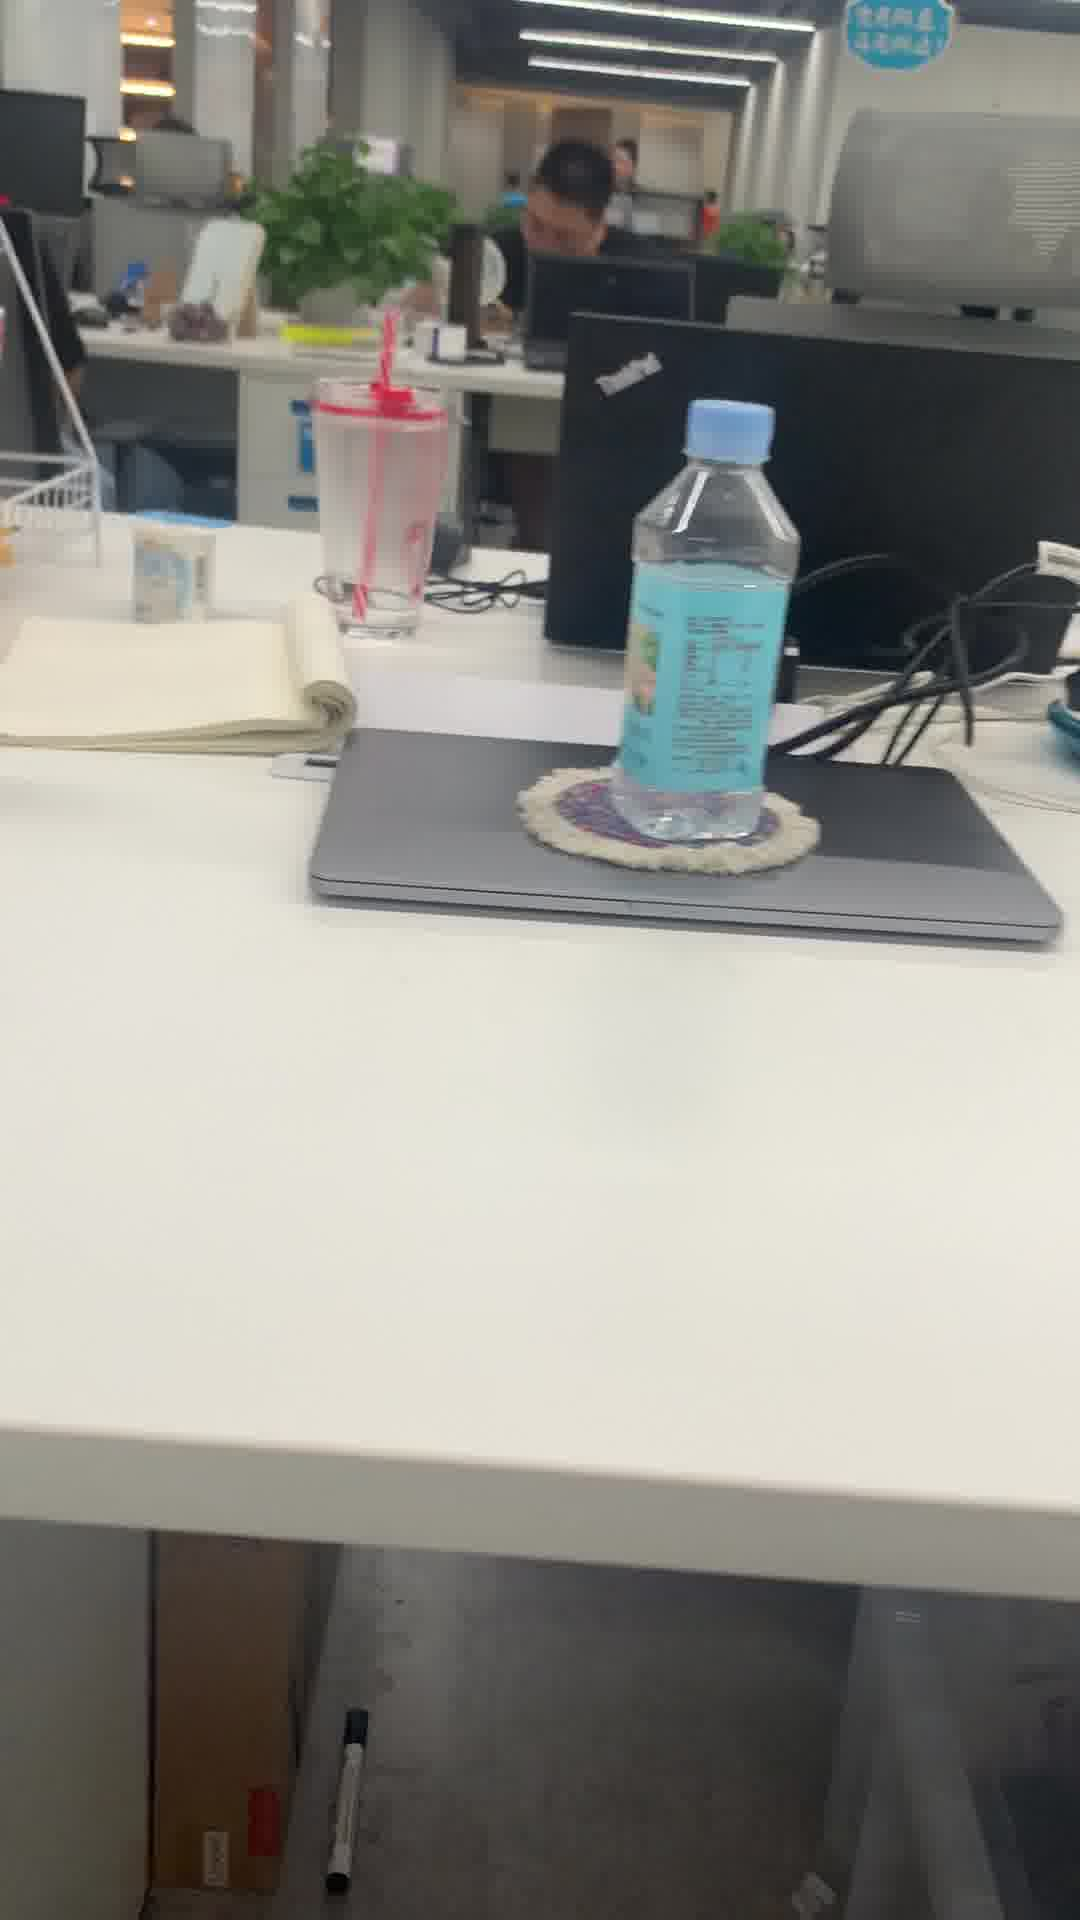水瓶: (622, 396, 796, 847)
